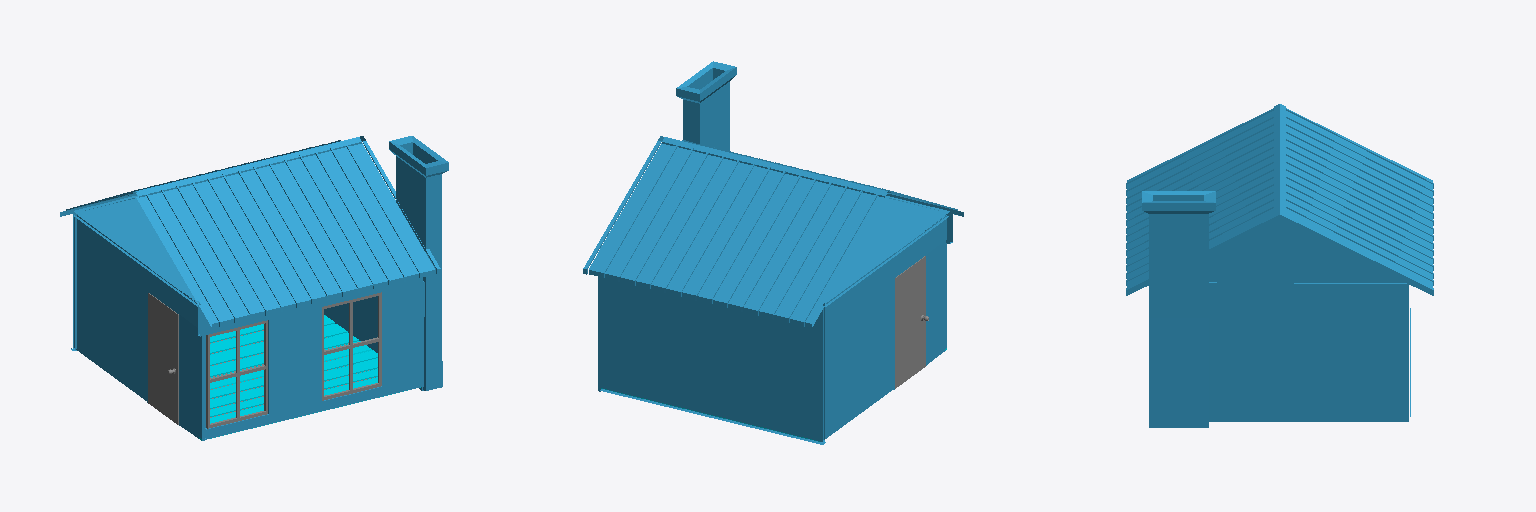
The picture shows the model from 3 angles: view 1: azimuth 30°, elevation 25°; view 2: azimuth 150°, elevation 25°; view 3: azimuth 270°, elevation 25°; orthographic projection.
Parts seen in each view (by area): view 1: Fachada_polySurface405, PuertaInt_polySurface2268; view 2: Fachada_polySurface405, PuertaInt_polySurface2268; view 3: Fachada_polySurface405.
Boxes of the visible parts, x1=… form: Fachada_polySurface405: x1=60, y1=136, x2=448, y2=440; PuertaInt_polySurface2268: x1=148, y1=293, x2=178, y2=424; Fachada_polySurface405: x1=583, y1=61, x2=963, y2=444; PuertaInt_polySurface2268: x1=895, y1=256, x2=928, y2=388; Fachada_polySurface405: x1=1126, y1=104, x2=1433, y2=427.
Size of the model in its own units: 291 by 255 by 314.
5 materials, 2 textured.